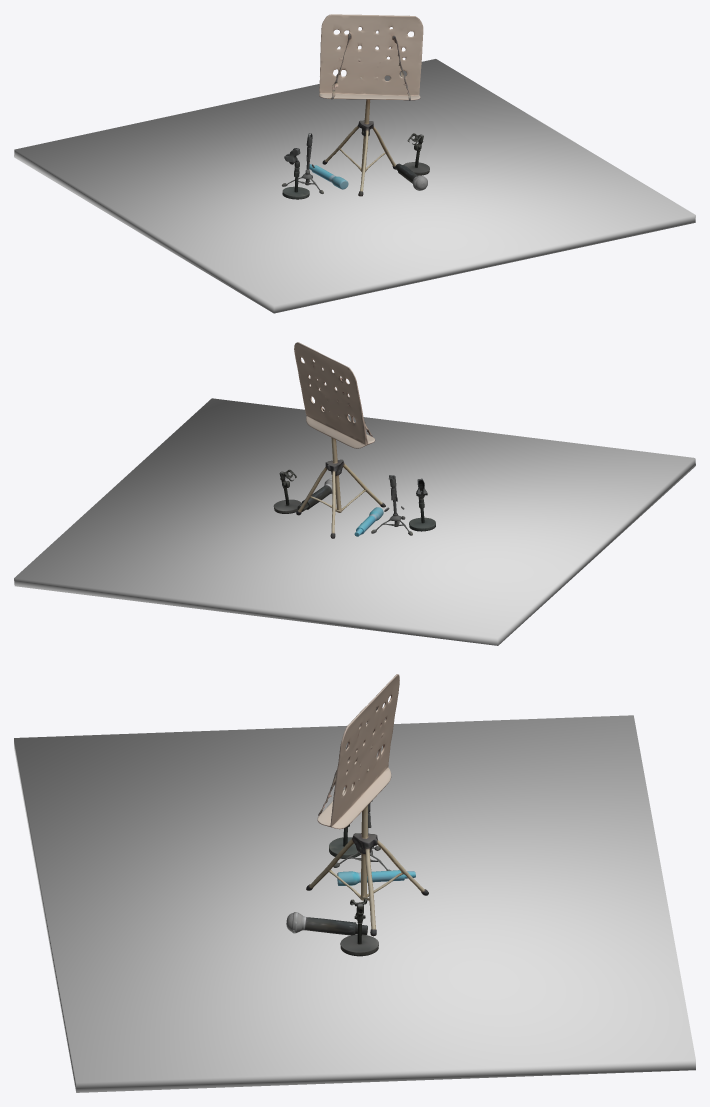
The model's file is rest3d.glb.
3 views of the same model, one above another, from view 1: azimuth 30°, elevation 25°; view 2: azimuth 150°, elevation 25°; view 3: azimuth 270°, elevation 25° (orthographic). The views are drawn at different scales.
Visible parts, largest first — view 1: ground, World; view 2: ground, World; view 3: ground, World.
Part boxes in pixels (bbox=[...]): ground: bbox=[14, 59, 695, 313]; World: bbox=[282, 14, 429, 199]; ground: bbox=[14, 398, 695, 645]; World: bbox=[273, 342, 435, 538]; ground: bbox=[14, 715, 695, 1092]; World: bbox=[286, 674, 428, 956].
Bounding box in the file's own units: 3.29 × 1.21 × 2.95.
